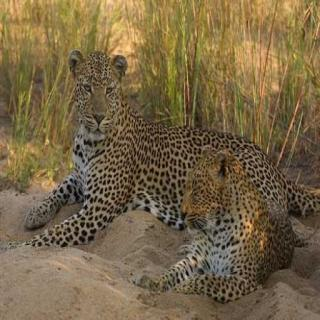Leopard: (65, 50, 293, 217), (137, 138, 320, 301)
